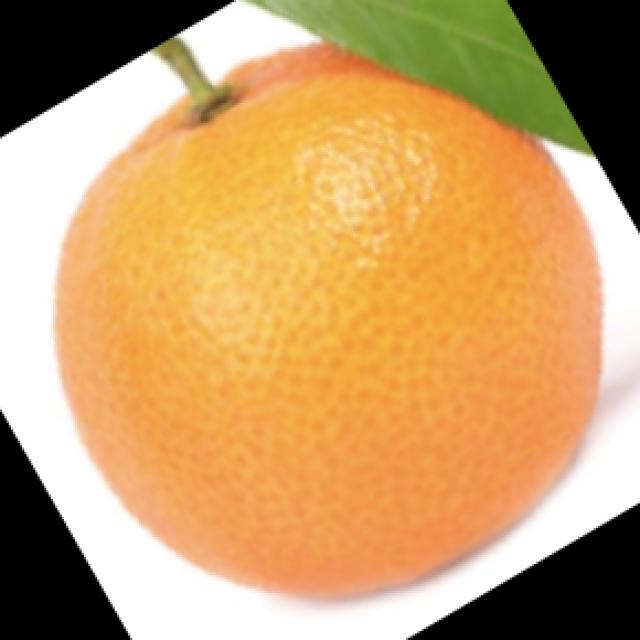orange: (58, 46, 602, 624)
